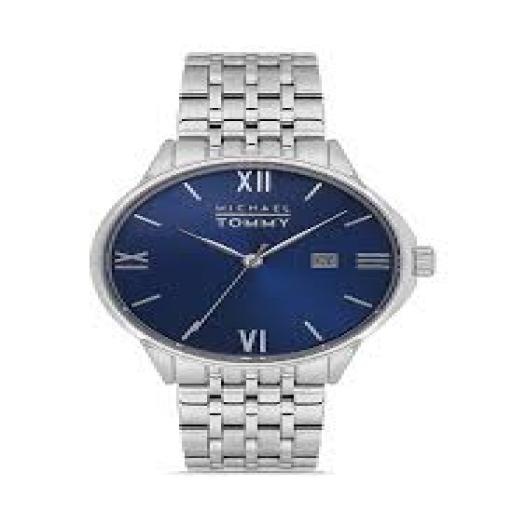KolSaati: (83, 30, 444, 488)
